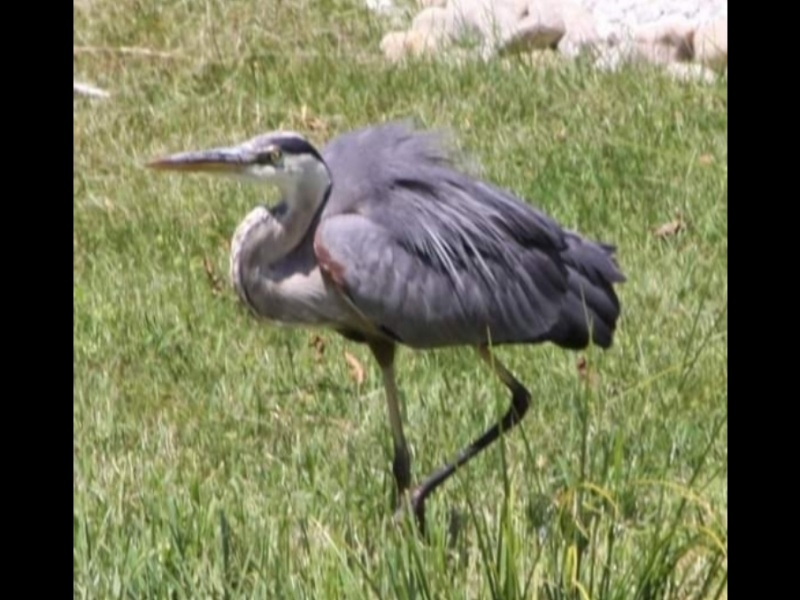heron: (145, 119, 620, 530)
